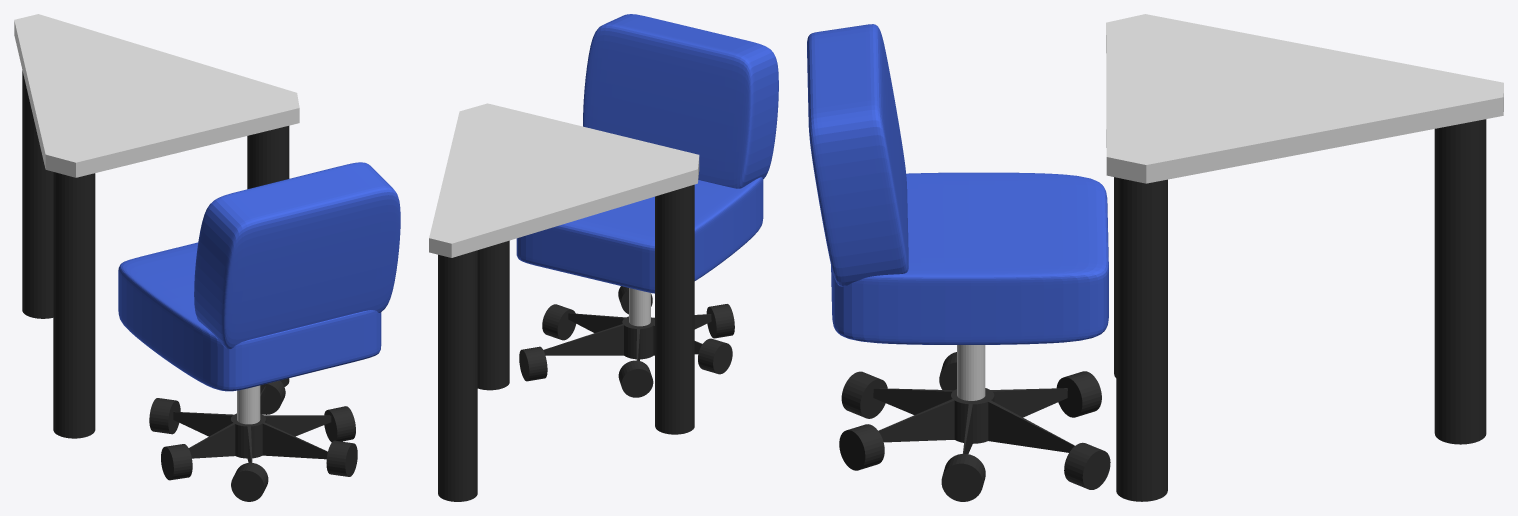
The model's file is smalldeskAndChair.gltf.
The picture shows the model from 3 angles, left to right: view 1: azimuth 30°, elevation 25°; view 2: azimuth 150°, elevation 25°; view 3: azimuth 270°, elevation 25°; orthographic projection. The views are drawn at different scales.
Parts seen in each view (by area): view 1: smalldeskAndChair; view 2: smalldeskAndChair; view 3: smalldeskAndChair.
Part boxes in pixels (x1,y1,x2,y2): smalldeskAndChair: (14, 14, 400, 501); smalldeskAndChair: (429, 14, 778, 501); smalldeskAndChair: (807, 14, 1503, 501).
Bounding box in the file's own units: 0.7985 × 0.9417 × 1.56.
